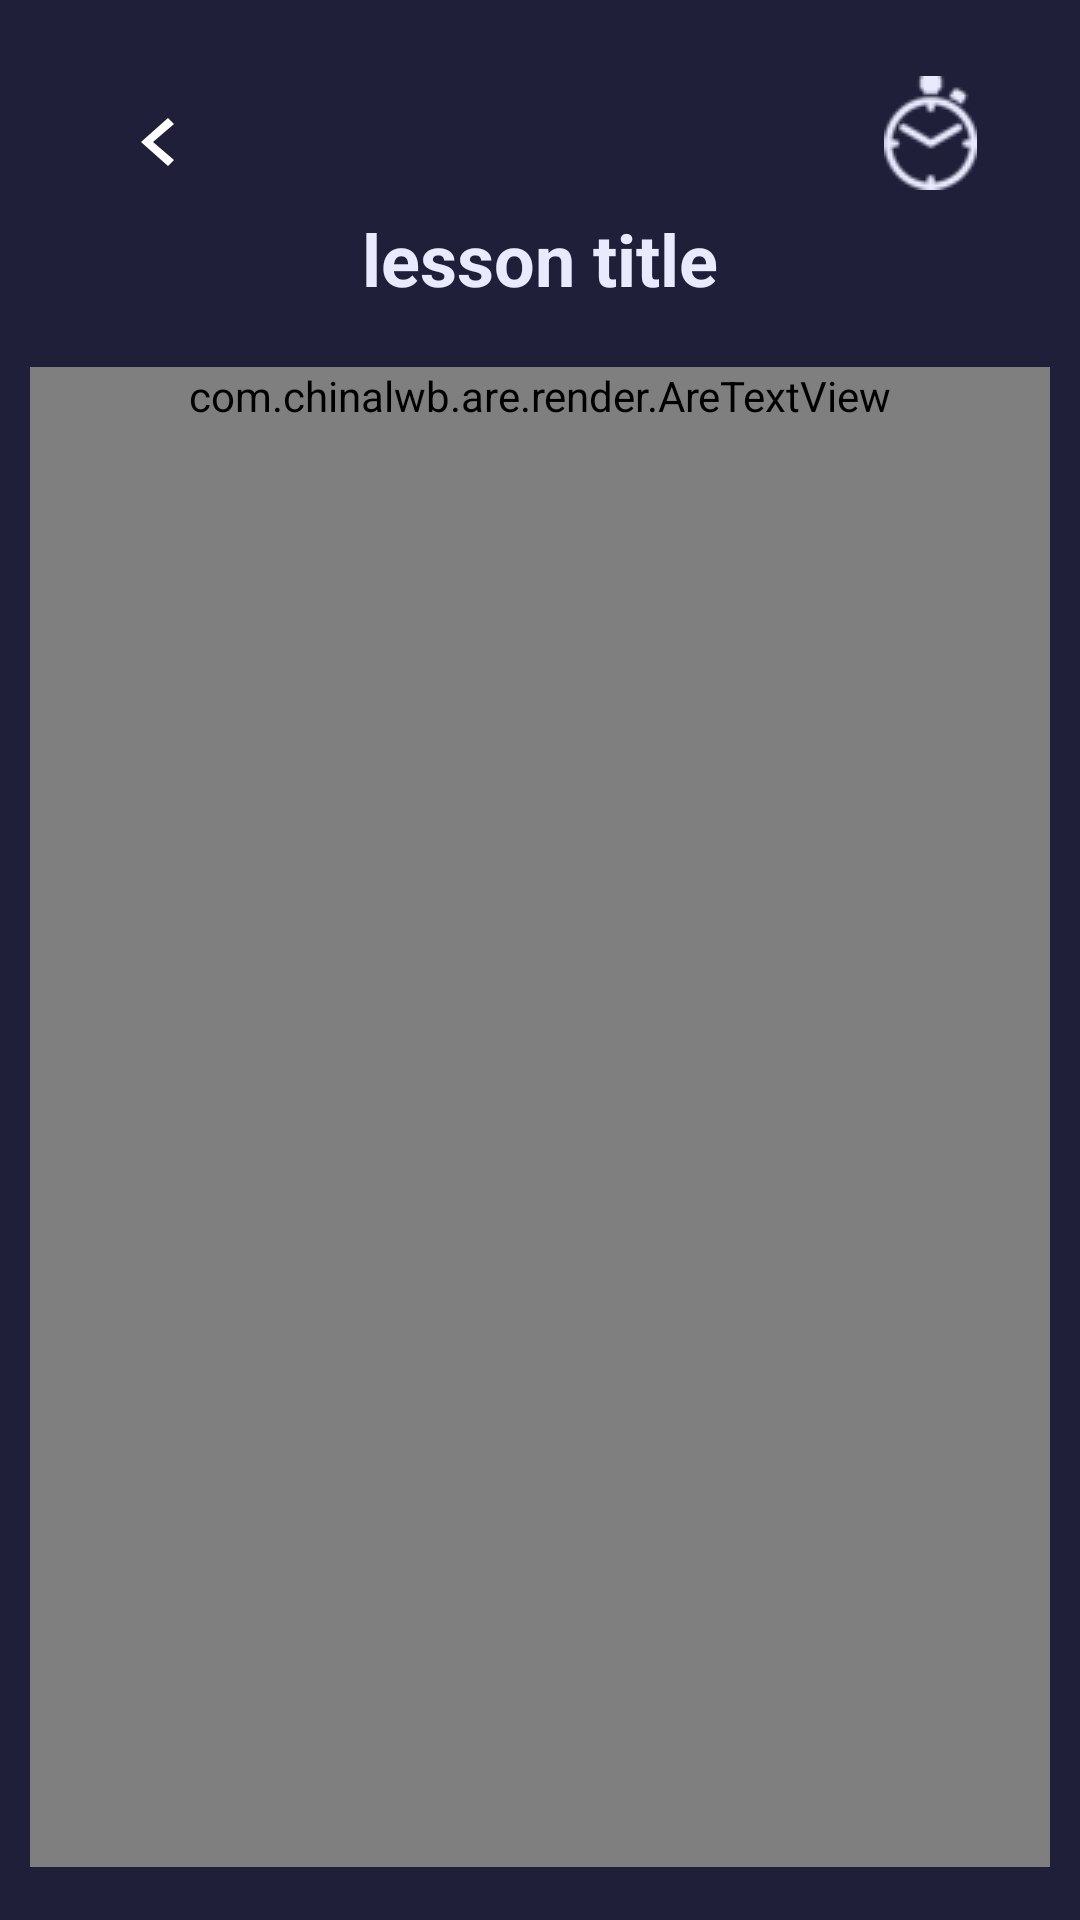

Icon bounding boxes for this 1080w x 1920h phone screenshot, format (x1, y1, x2, y2):
back: (141, 118, 174, 166)
stopwatch: (884, 76, 977, 190)
